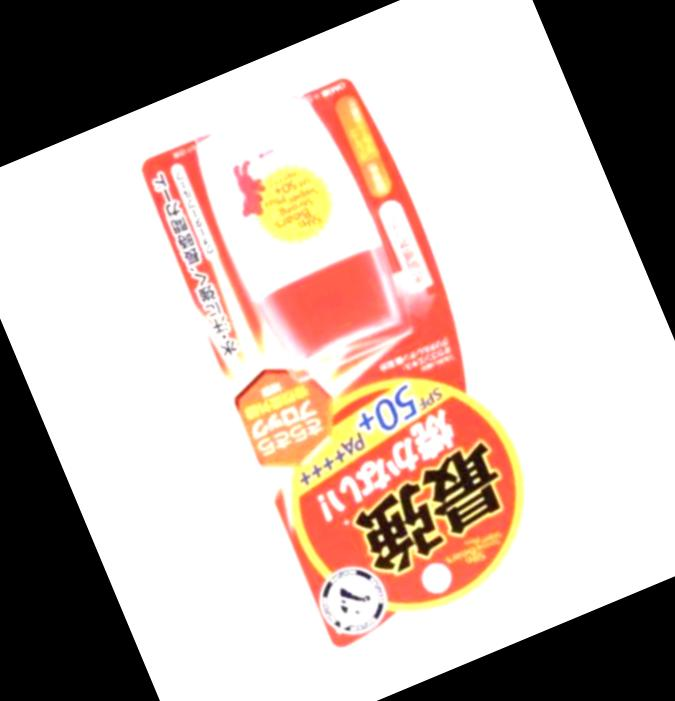cosmetic: (180, 80, 412, 374)
